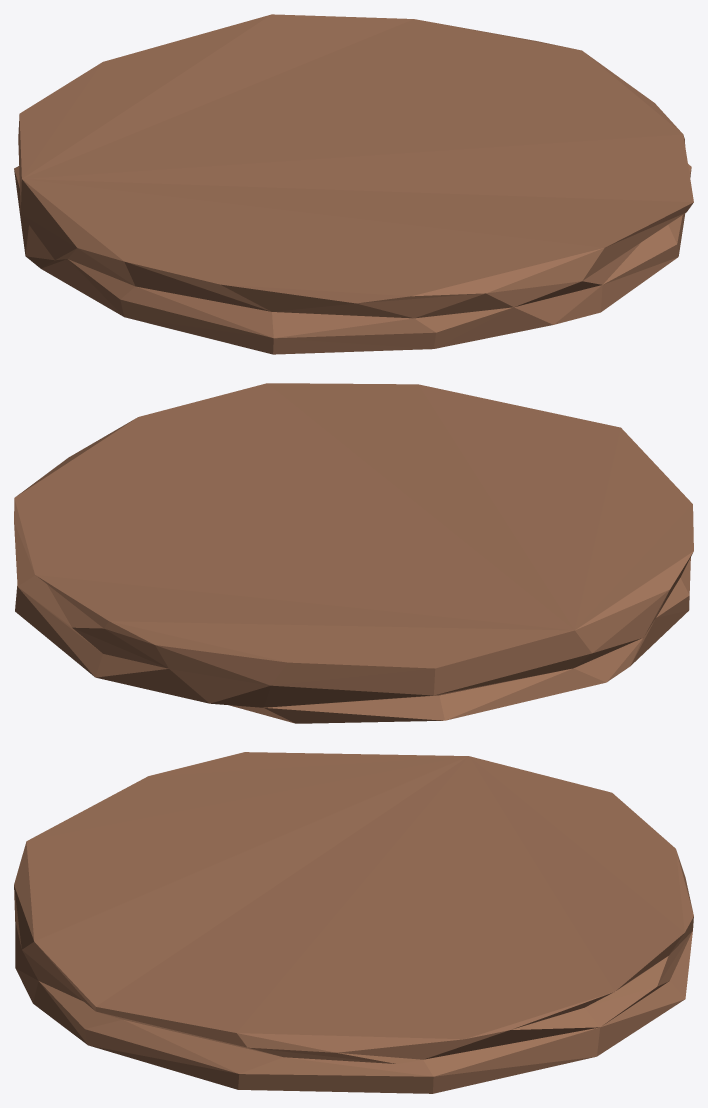
The model's file is beef.fbx.
3 views of the same model, one above another, from view 1: azimuth 30°, elevation 25°; view 2: azimuth 150°, elevation 25°; view 3: azimuth 270°, elevation 25° (orthographic).
Parts seen in each view (by area): view 1: beef; view 2: beef; view 3: beef.
Boxes of the visible parts, box(x1,y1,x2,y2) form: beef: box(14, 14, 693, 354); beef: box(14, 383, 693, 723); beef: box(14, 752, 693, 1093).
Bounding box in the file's own units: 1.66 × 0.1901 × 1.64.
